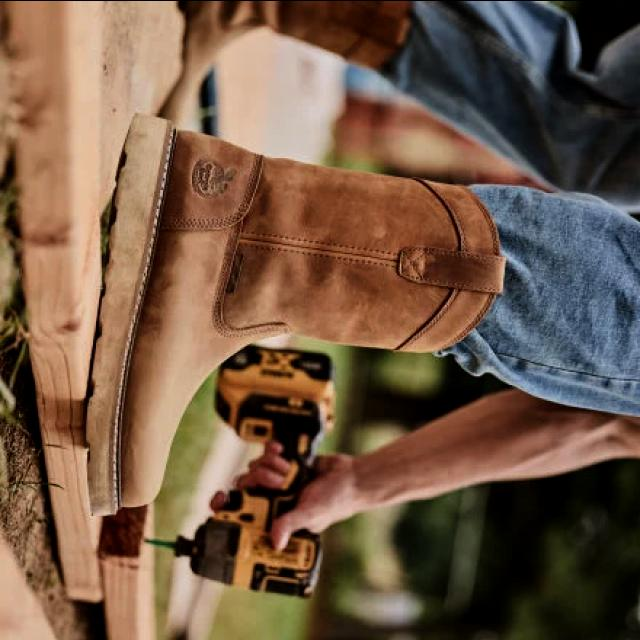Boots: (81, 108, 511, 522), (156, 0, 416, 134)
